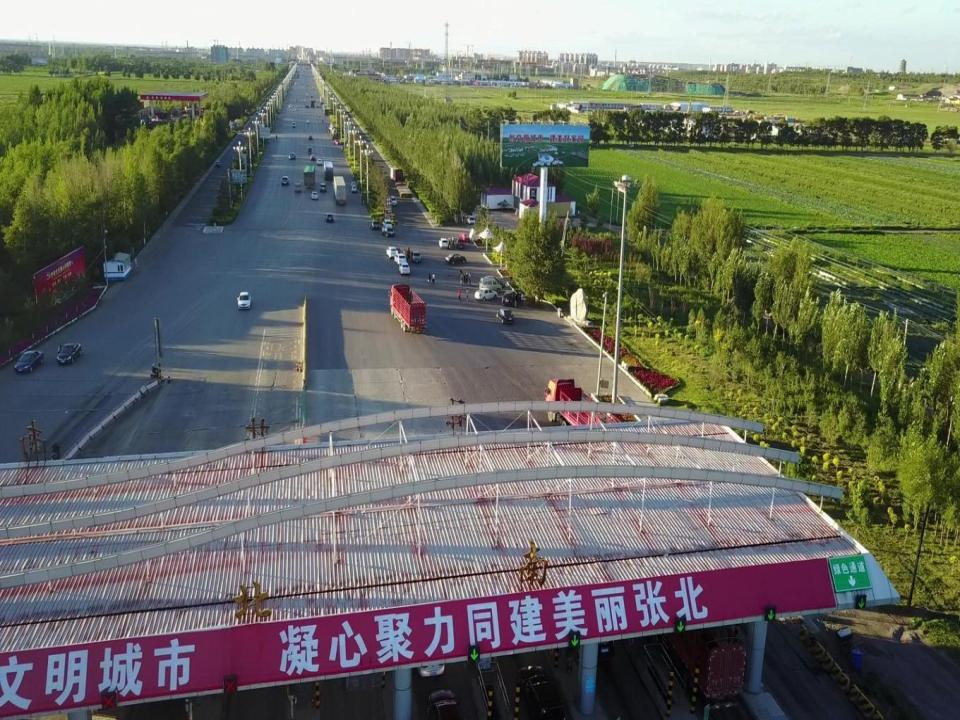car: (518, 660, 569, 720), (14, 351, 45, 372), (56, 343, 82, 365), (474, 288, 498, 301), (501, 292, 523, 306), (495, 308, 514, 324), (445, 253, 467, 266), (237, 290, 251, 310), (483, 276, 504, 288), (398, 262, 410, 274), (386, 246, 398, 258), (458, 233, 470, 244), (382, 227, 394, 238), (395, 254, 405, 266), (438, 238, 448, 250), (455, 238, 465, 249), (382, 218, 392, 229), (370, 220, 380, 230), (465, 215, 476, 224), (412, 251, 420, 262), (310, 191, 318, 200), (326, 213, 333, 223), (320, 183, 327, 192), (294, 183, 301, 192), (282, 175, 288, 185), (351, 185, 358, 193), (390, 196, 396, 205), (215, 160, 221, 167)
truck: (664, 623, 748, 717), (544, 378, 624, 426), (388, 284, 426, 334), (393, 169, 413, 197), (332, 176, 346, 203), (304, 164, 316, 188), (324, 162, 332, 181)
van: (478, 278, 500, 292)
